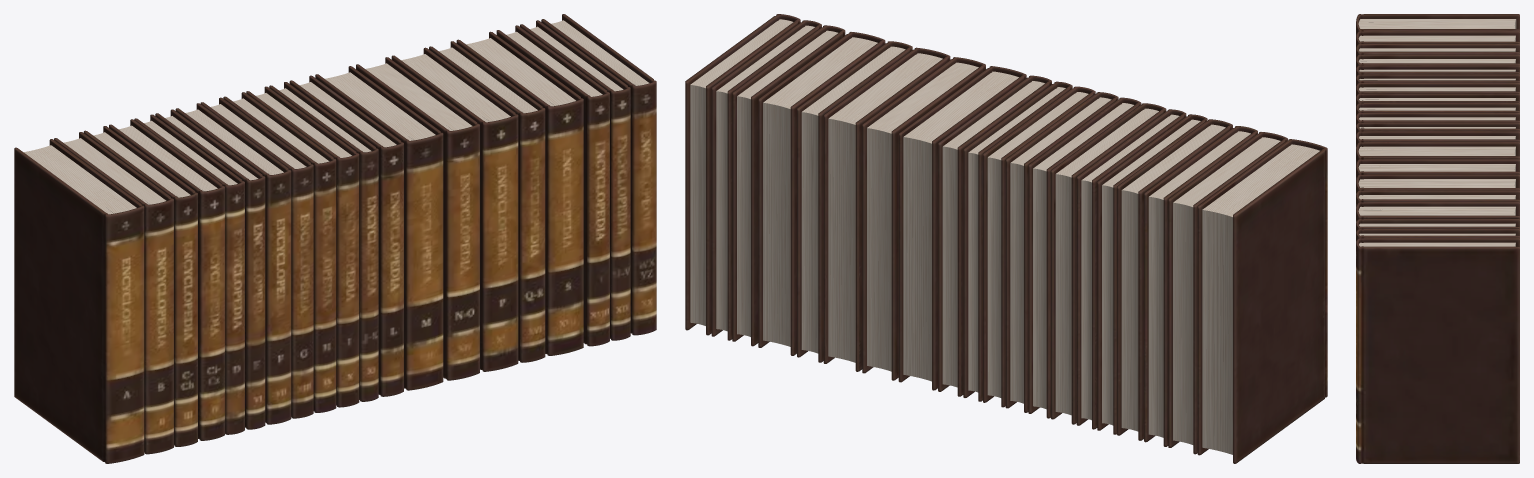
Rendered from book_encyclopedia_set_01.glb.
The picture shows the model from 3 angles, left to right: view 1: azimuth 30°, elevation 25°; view 2: azimuth 150°, elevation 25°; view 3: azimuth 270°, elevation 25°; orthographic projection. The views are drawn at different scales.
Visible parts, largest first — view 1: book_encyclopedia_set_01_book01; view 2: book_encyclopedia_set_01_book01; view 3: book_encyclopedia_set_01_book01.
Part boxes in pixels (x1,y1,x2,y2): book_encyclopedia_set_01_book01: (14,14,656,463); book_encyclopedia_set_01_book01: (685,14,1327,463); book_encyclopedia_set_01_book01: (1356,14,1519,463).
Bounding box in the file's own units: 0.5513 × 0.2374 × 0.1631.
2 materials, 2 textured.
